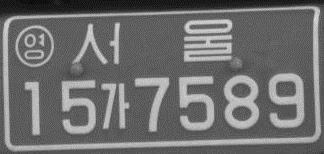1: (19, 79, 43, 137)
5: (59, 78, 98, 136), (177, 74, 215, 132)
7: (132, 74, 170, 134)
8: (223, 74, 261, 129)
9: (267, 71, 305, 129)
가: (98, 81, 131, 131)
서울_D: (68, 16, 235, 68)
영: (14, 24, 56, 68)
